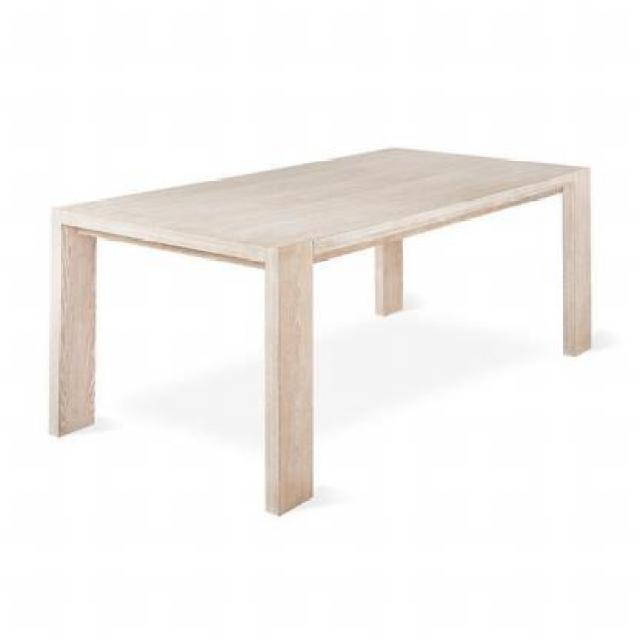table: (44, 144, 594, 516)
